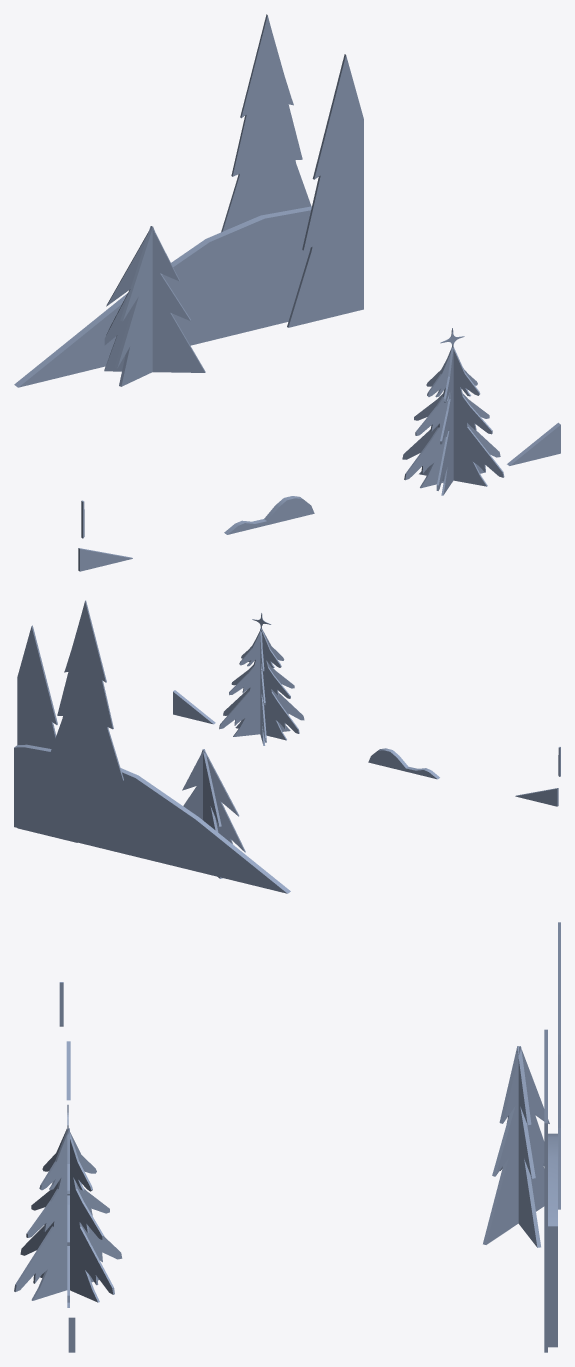
File: frame_0051.glb
The picture shows the model from 3 angles, top to bottom: view 1: azimuth 30°, elevation 25°; view 2: azimuth 150°, elevation 25°; view 3: azimuth 270°, elevation 25°; orthographic projection. The views are drawn at different scales.
Visible parts, largest first — view 1: export_trees_001.002; view 2: export_trees_001.002; view 3: export_trees_001.002.
Boxes of the visible parts, x1,y1,x2,y2 form: export_trees_001.002: (14, 14, 560, 571); export_trees_001.002: (14, 600, 560, 893); export_trees_001.002: (14, 922, 560, 1352).
Size of the model in its own units: 0.4327 by 0.2681 by 0.3523.
